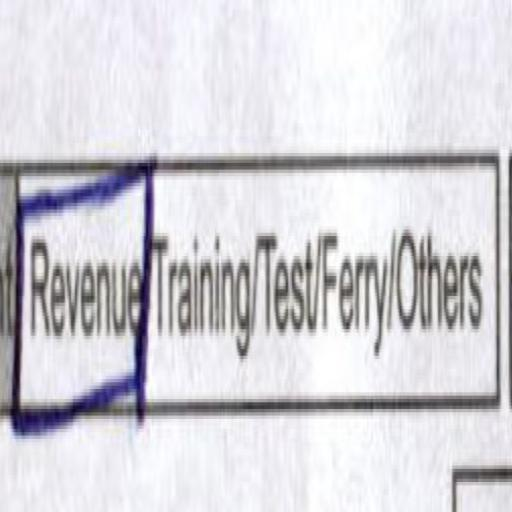check: (18, 130, 150, 486)
